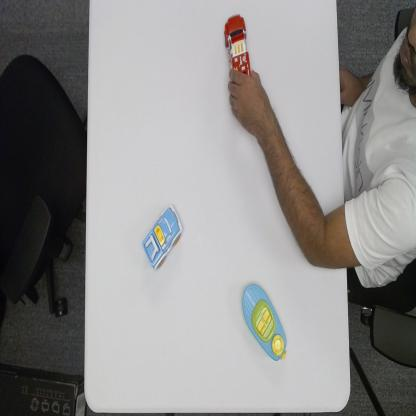Arm: (264, 118, 346, 276)
Boat: (240, 280, 288, 365)
Car: (141, 202, 185, 273)
Firetruck: (223, 13, 252, 76)
Hand: (228, 67, 270, 132)
